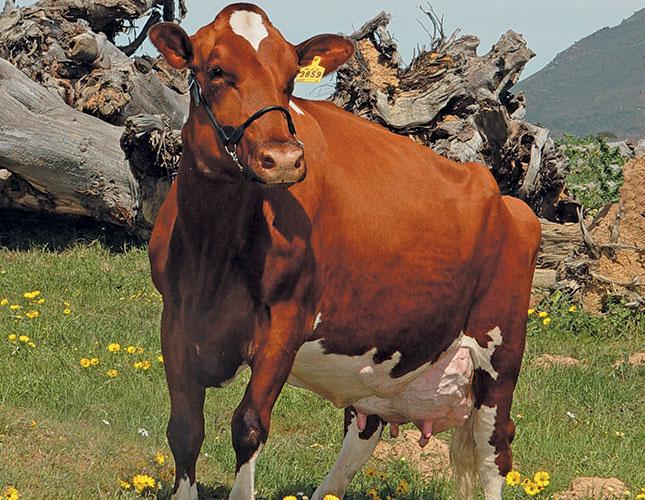muzzles: (246, 140, 312, 194)
